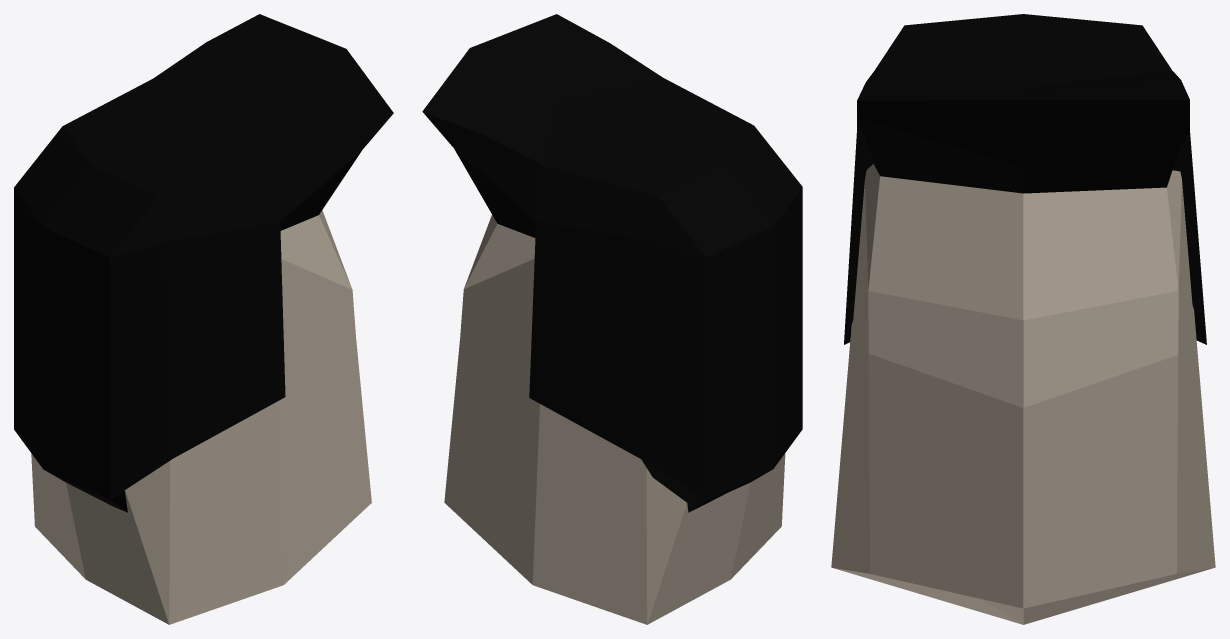
Rendered from head1.fbx.
3 renders of one model, left to right at view 1: azimuth 30°, elevation 25°; view 2: azimuth 150°, elevation 25°; view 3: azimuth 270°, elevation 25°, orthographic. The views are drawn at different scales.
Visible parts, largest first — view 1: head1; view 2: head1; view 3: head1.
Boxes of the visible parts, left/top/right/bottom form: head1: left=14, top=14, right=393, bottom=624; head1: left=422, top=14, right=802, bottom=624; head1: left=831, top=14, right=1215, bottom=624.
Bounding box in the file's own units: 70.07 × 102 × 61.01.
